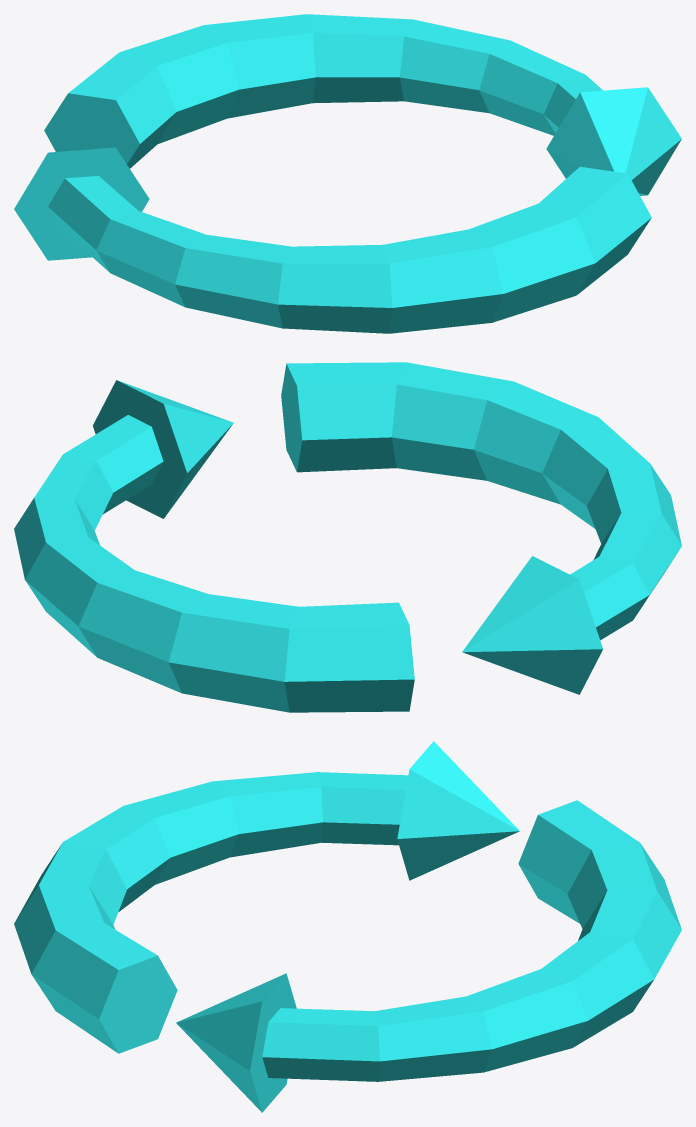
The model's file is DodatkowaTura.fbx.
3 renders of one model, top to bottom at view 1: azimuth 30°, elevation 25°; view 2: azimuth 150°, elevation 25°; view 3: azimuth 270°, elevation 25°, orthographic. The views are drawn at different scales.
Visible parts, largest first — view 1: Cylinder; view 2: Cylinder; view 3: Cylinder.
Part boxes in pixels (box(x1,y1,x2,y2)): Cylinder: box(14, 14, 681, 333); Cylinder: box(14, 362, 681, 712); Cylinder: box(14, 741, 681, 1112).
Size of the model in its own units: 480 by 86.6 by 470.
